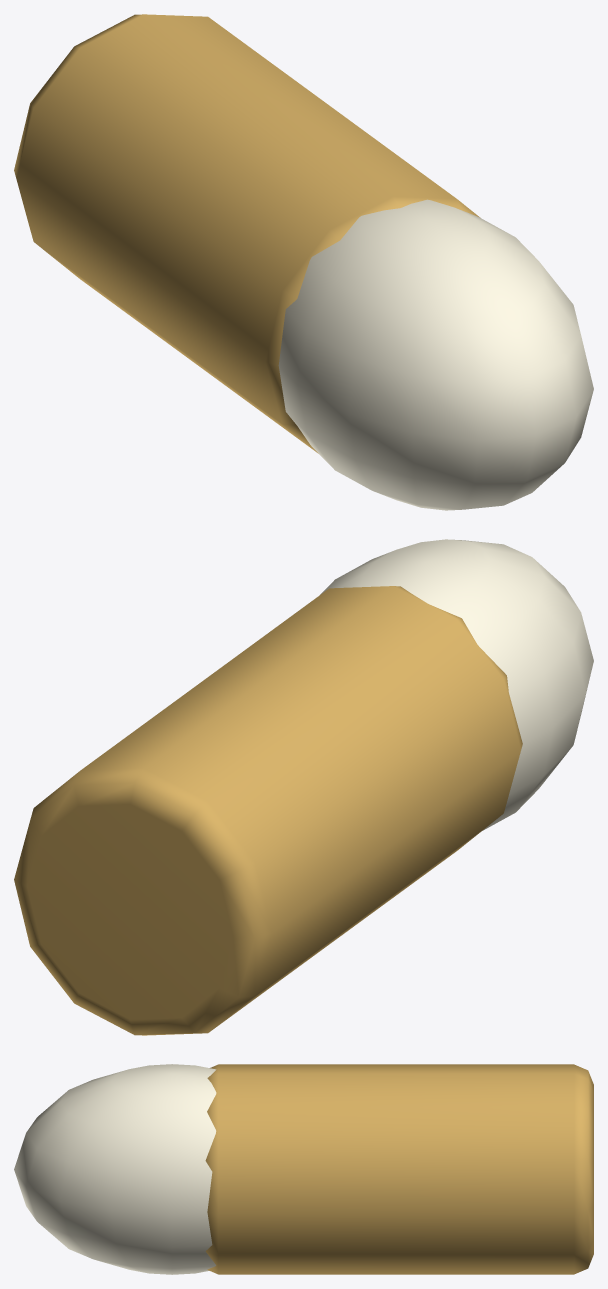
File: shell_standard.glb
The picture shows the model from 3 angles, top to bottom: view 1: azimuth 30°, elevation 25°; view 2: azimuth 150°, elevation 25°; view 3: azimuth 270°, elevation 25°; orthographic projection. The views are drawn at different scales.
Visible parts, largest first — view 1: Shell casing, Shell tip; view 2: Shell casing, Shell tip; view 3: Shell casing, Shell tip.
Boxes of the visible parts, bbox=[...] form: Shell casing: bbox=[14, 14, 480, 453]; Shell tip: bbox=[278, 199, 593, 510]; Shell casing: bbox=[14, 586, 522, 1035]; Shell tip: bbox=[320, 539, 593, 830]; Shell casing: bbox=[205, 1064, 593, 1274]; Shell tip: bbox=[14, 1064, 216, 1274].
Size of the model in its own units: 0.16 by 0.16 by 0.44.
